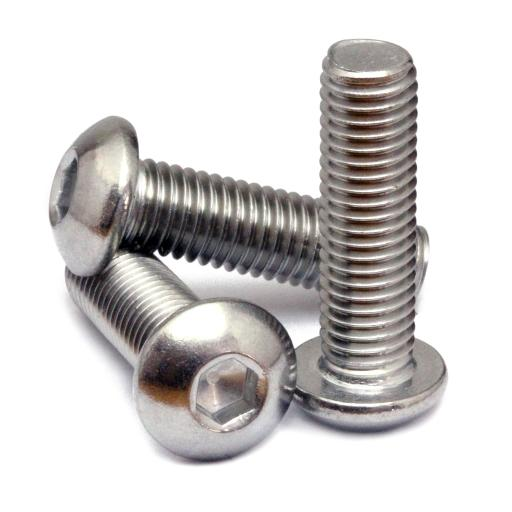Hex-Allen: (130, 295, 297, 465)
